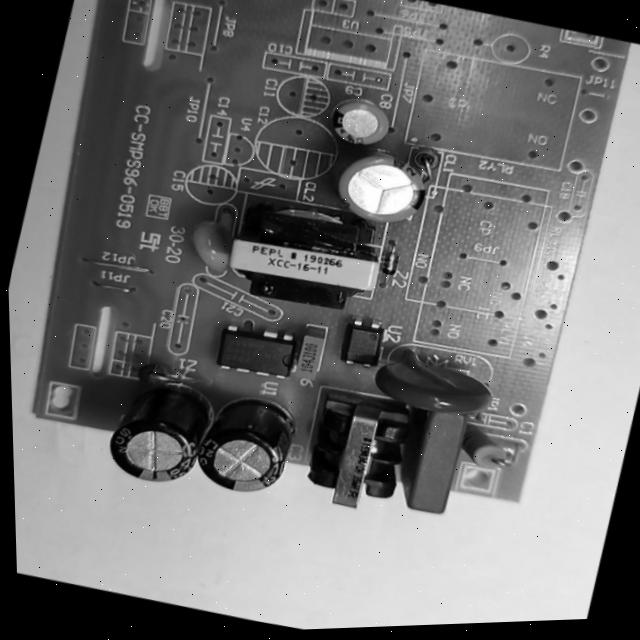Cap1: (326, 137, 436, 234)
Cap2: (324, 90, 396, 153)
Cap3: (189, 386, 303, 506)
Cap4: (97, 372, 214, 493)
MOSFET: (211, 316, 302, 386)
Mov: (366, 333, 504, 426)
Resistor: (454, 419, 518, 476)
Transformer: (217, 196, 390, 324), (296, 386, 422, 525)
